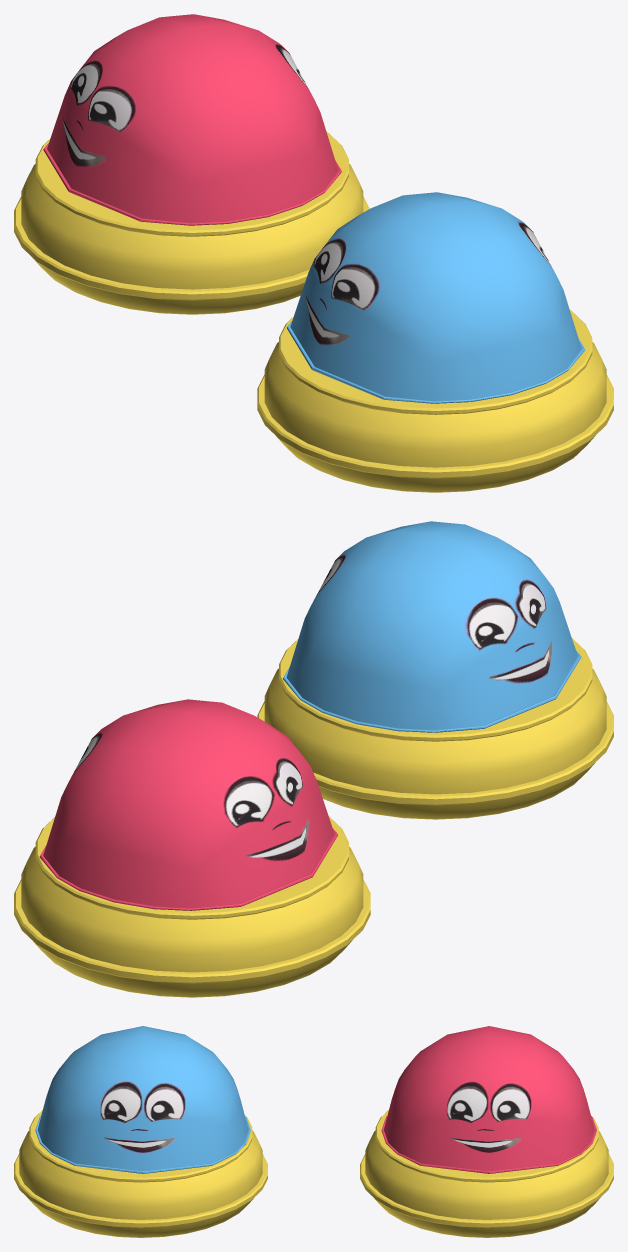
The model's file is Bath toys.fbx.
3 renders of one model, top to bottom at view 1: azimuth 30°, elevation 25°; view 2: azimuth 150°, elevation 25°; view 3: azimuth 270°, elevation 25°, orthographic. The views are drawn at different scales.
Visible parts, largest first — view 1: Ufo bath toy 2, Ufo bath toy7; view 2: Ufo bath toy7, Ufo bath toy 2; view 3: Ufo bath toy 2, Ufo bath toy7.
Boxes of the visible parts, left/top/right/bottom form: Ufo bath toy 2: left=257, top=192, right=613, bottom=492; Ufo bath toy7: left=14, top=14, right=369, bottom=314; Ufo bath toy7: left=14, top=699, right=370, bottom=997; Ufo bath toy 2: left=257, top=521, right=613, bottom=819; Ufo bath toy 2: left=14, top=1026, right=267, bottom=1237; Ufo bath toy7: left=360, top=1026, right=613, bottom=1237.
Size of the model in its own units: 5.75 by 4.36 by 13.52.
2 materials, 2 textured.
